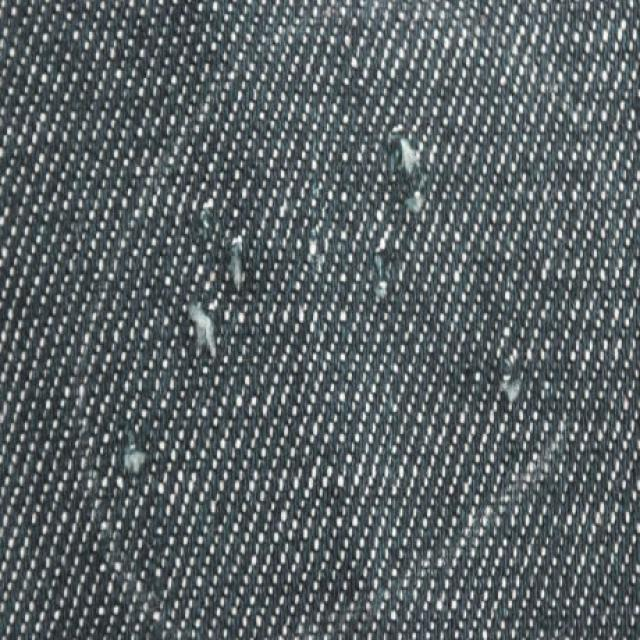stains: (100, 118, 594, 577)
